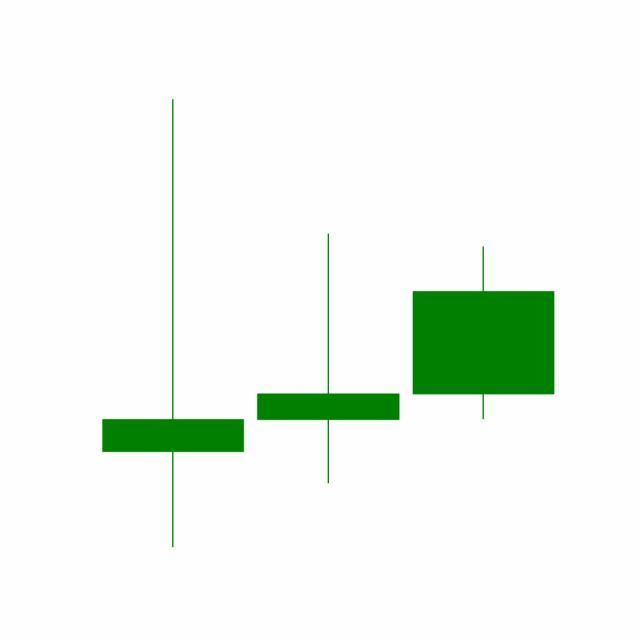Spinning Top: (250, 232, 407, 488)
